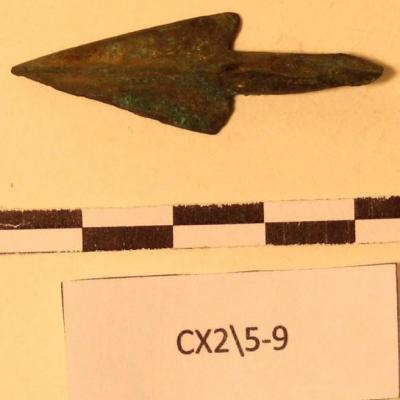archeology: (10, 12, 386, 137)
